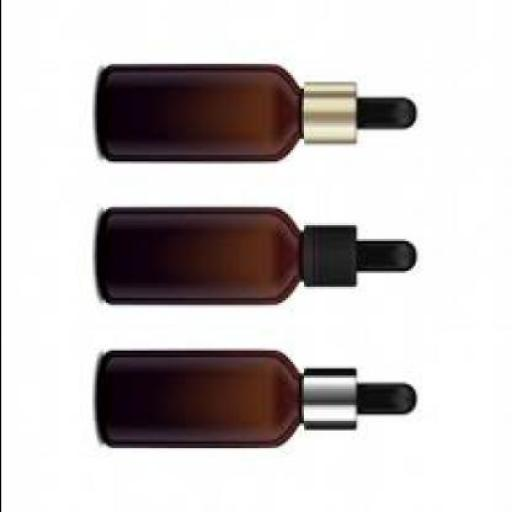glass: (96, 209, 303, 310), (98, 66, 304, 164), (98, 353, 302, 451)
metal: (298, 228, 359, 286), (306, 86, 360, 150), (300, 374, 360, 430)
plastic: (357, 241, 418, 273), (357, 387, 418, 419), (359, 100, 416, 130)
